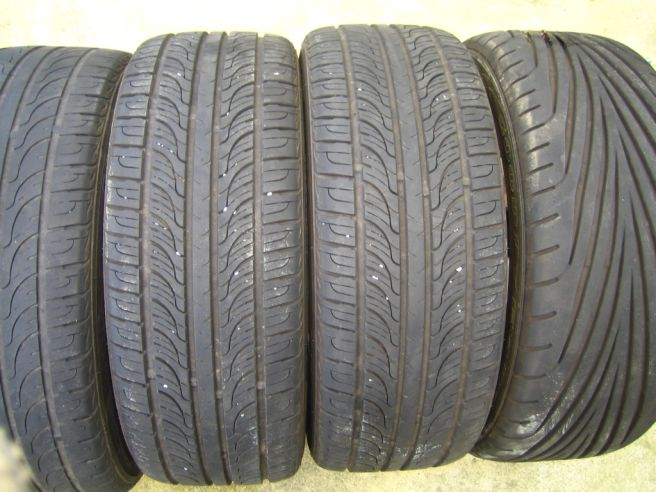middle_condition: (108, 31, 314, 492), (316, 27, 500, 485), (511, 28, 654, 478)
